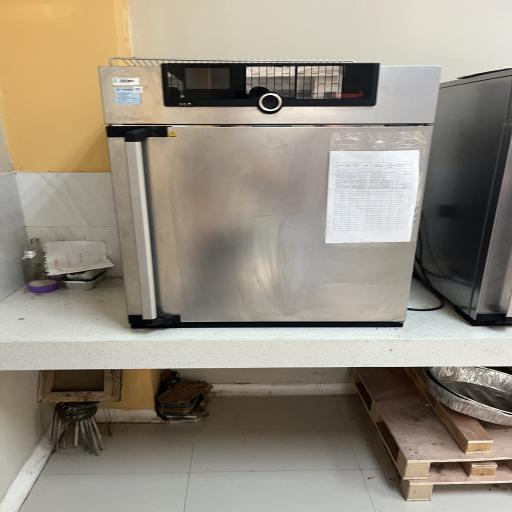Memmert_Unidad2: (86, 45, 446, 342)
